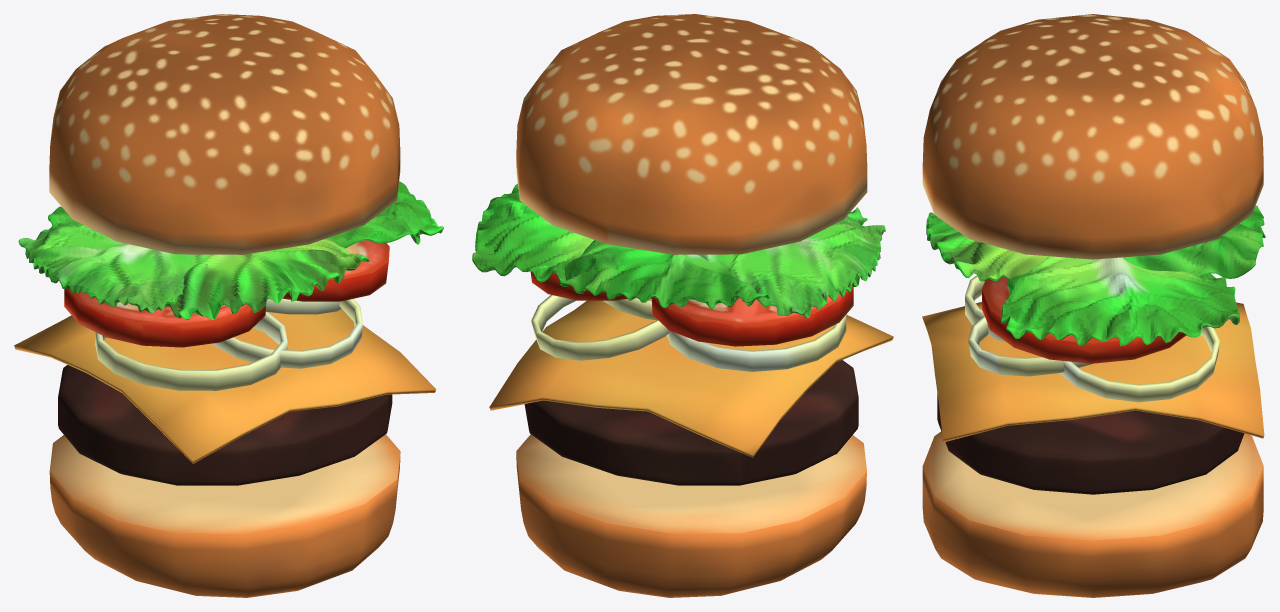
The model's file is Burger-idle.fbx.
The picture shows the model from 3 angles, left to right: view 1: azimuth 30°, elevation 25°; view 2: azimuth 150°, elevation 25°; view 3: azimuth 270°, elevation 25°; orthographic projection.
Parts seen in each view (by area): view 1: bread-top, bread-down, chesse, alface1.010, ham, tomato1, onion1, onion-middle, tomato2, onion2; view 2: bread-top, bread-down, alface1.010, chesse, ham, tomato1, onion1, onion2, tomato2, onion-middle; view 3: bread-top, bread-down, alface1.010, chesse, ham, tomato2, onion2, onion-middle, onion1.
Boxes of the visible parts, x1,y1,x2,y2 form: bread-top: (49,14,400,254); bread-down: (49,434,400,597); chesse: (14,309,436,463); alface1.010: (18,181,443,319); ham: (58,365,392,485); tomato1: (64,288,265,347); onion1: (95,312,287,390); onion-middle: (212,298,362,368); tomato2: (283,240,389,301); onion2: (265,298,341,314); bread-top: (516,14,867,254); bread-down: (516,434,866,597); alface1.010: (472,183,885,317); chesse: (489,298,893,457); ham: (524,360,858,485); tomato1: (651,286,853,346); onion1: (667,315,846,371); onion2: (531,295,670,360); tomato2: (530,271,627,300); onion-middle: (603,297,657,320); bread-top: (922,14,1263,259); bread-down: (922,431,1263,597); alface1.010: (926,205,1265,346); chesse: (922,302,1264,442); ham: (937,393,1244,494); tomato2: (982,276,1186,363); onion2: (1059,326,1219,402); onion-middle: (968,316,1092,376); onion1: (965,275,1005,341).
Bounding box in the file's own units: 386 × 510 × 312.
